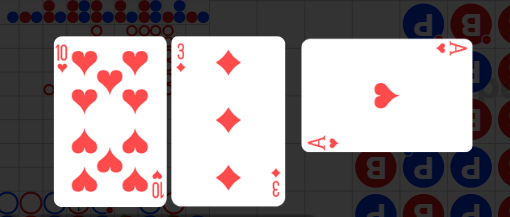10H: (55, 43, 70, 75)
3D: (270, 166, 282, 198)
AH: (433, 41, 468, 58)
